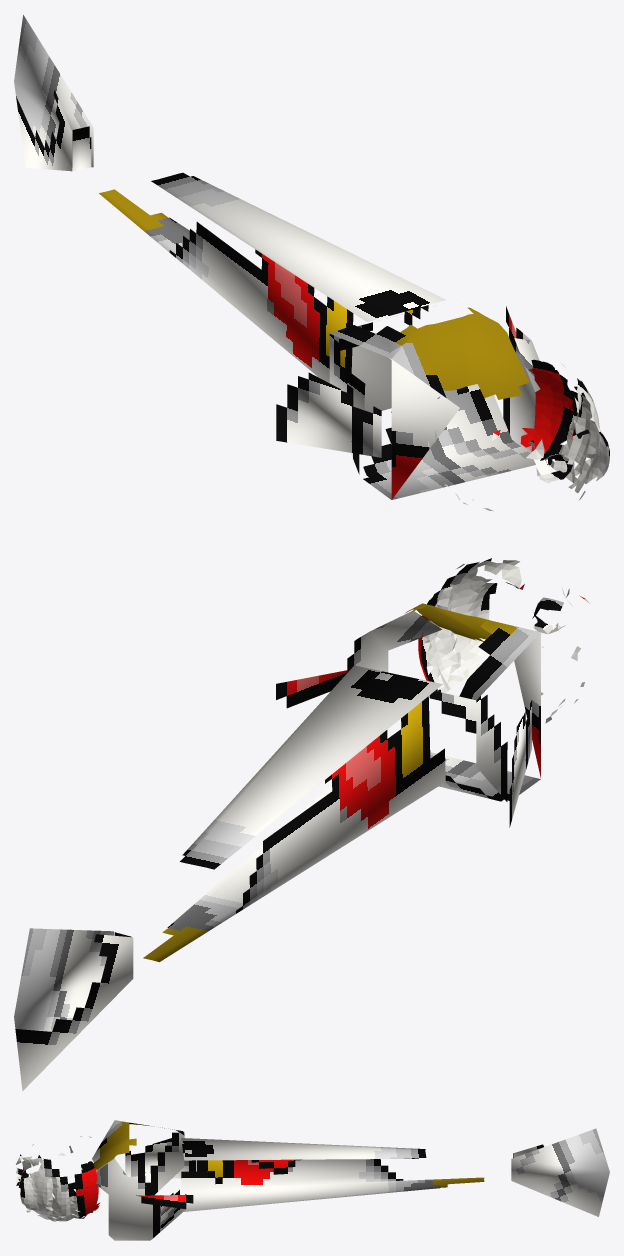
File: enemy.obj
3 views of the same model, one above another, from view 1: azimuth 30°, elevation 25°; view 2: azimuth 150°, elevation 25°; view 3: azimuth 270°, elevation 25° (orthographic). The views are drawn at different scales.
Visible parts, largest first — view 1: 立方体; view 2: 立方体; view 3: 立方体.
Part boxes in pixels (left/top/right/bottom): 立方体: left=14, top=15, right=609, bottom=511; 立方体: left=14, top=558, right=589, bottom=1091; 立方体: left=15, top=1120, right=609, bottom=1240.
Size of the model in its own units: 3.15 by 1.99 by 12.11.
1 material, 1 textured.
